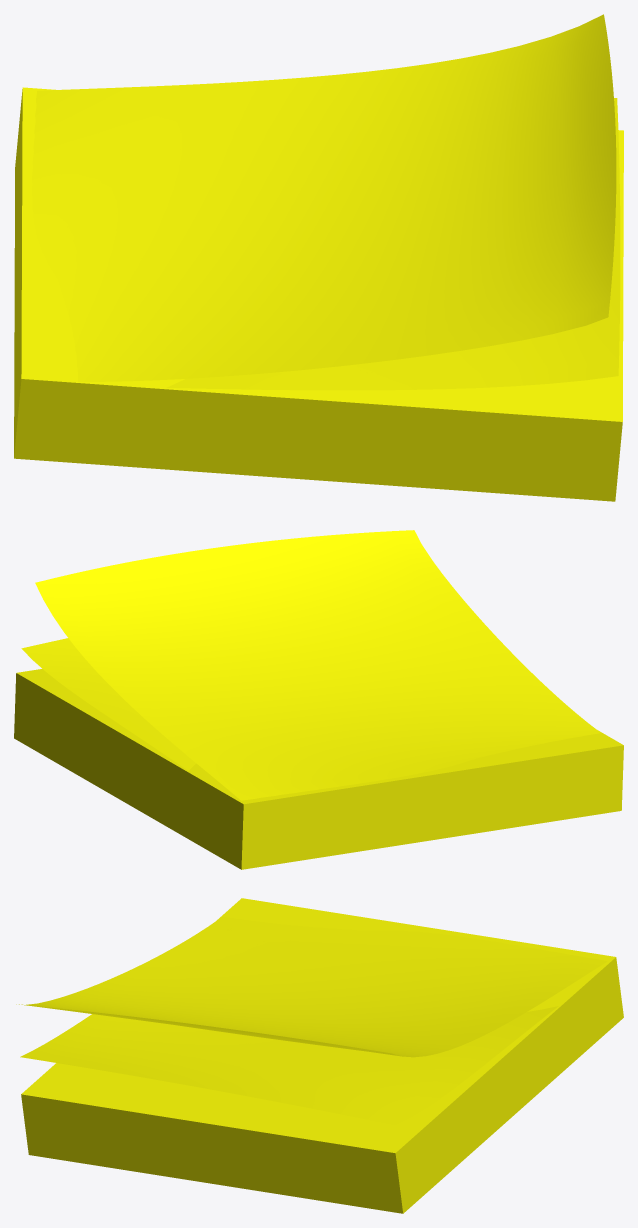
File: Note_Model.obj
The picture shows the model from 3 angles, top to bottom: view 1: azimuth 30°, elevation 25°; view 2: azimuth 150°, elevation 25°; view 3: azimuth 270°, elevation 25°; orthographic projection. The views are drawn at different scales.
Parts seen in each view (by area): view 1: c0001.74124, p0000.89795, c0002.73834; view 2: c0001.74124, p0000.89795, c0002.73834; view 3: p0000.89795, c0001.74124, c0002.73834.
Boxes of the visible parts, box(x1,y1,x2,y2) form: c0001.74124: box(31, 14, 616, 381); p0000.89795: box(14, 87, 623, 501); c0002.73834: box(166, 98, 620, 390); c0001.74124: box(35, 530, 600, 800); p0000.89795: box(14, 669, 623, 869); c0002.73834: box(21, 638, 196, 770); p0000.89795: box(21, 898, 623, 1213); c0001.74124: box(16, 916, 607, 1057); c0002.73834: box(20, 1006, 558, 1125).
Size of the model in its own units: 0.1177 by 0.0398 by 0.1185.
